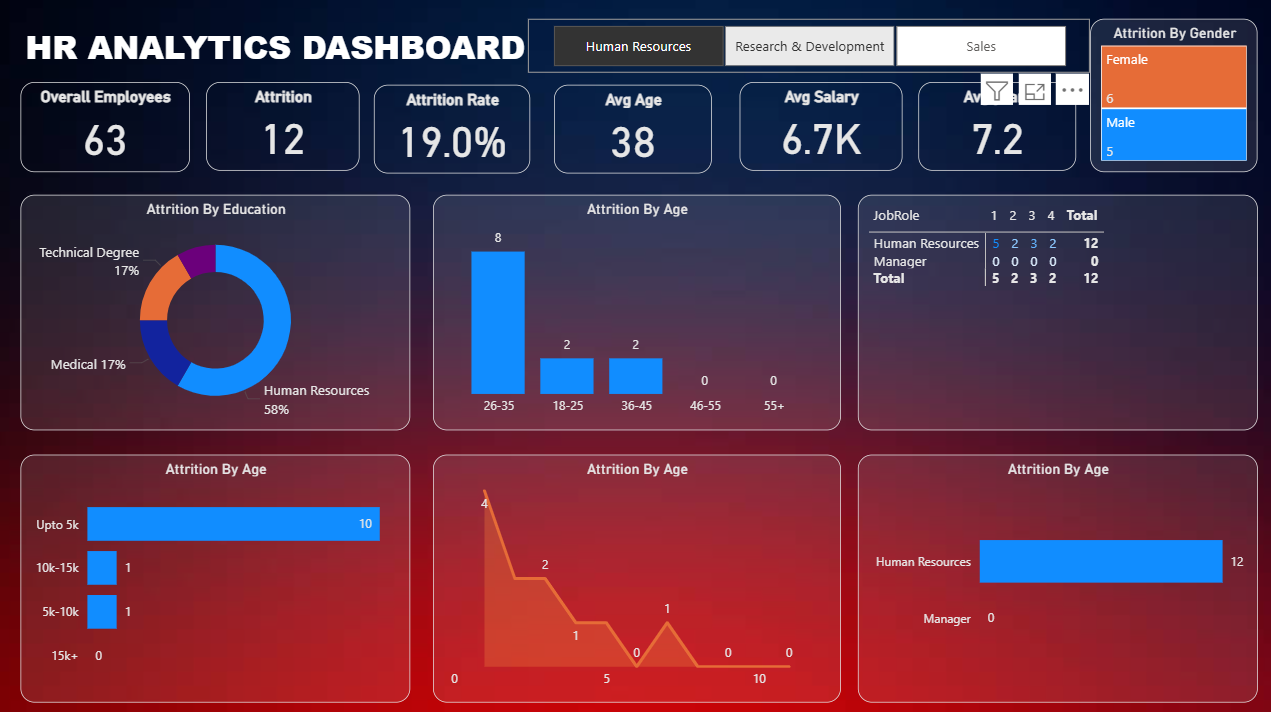

The dashboard page shown, as its layout file describes it:
{"tool":"powerbi","page":{"name":"Page 1","canvas":[1280,720],"ordinal":0},"visuals":[{"type":"card","title":"Overall Employees","fields":{"Values":["Count(HR_Analytics.EmpID)"]},"box":[27.4,88.6,169.2,90.3],"z":0},{"type":"card","title":"Attrition","fields":{"Values":["Sum(HR_Analytics.AttritionCount)"]},"box":[212.7,88.6,153.1,88.6],"z":1000},{"type":"card","title":"Avg Age","fields":{"Values":["Avg(HR_Analytics.Age)"]},"box":[560.9,90.3,158,88.6],"z":2000},{"type":"card","title":"Attrition Rate","fields":{"Values":["HR_Analytics.AttritionRate"]},"box":[380.4,90.3,156.3,88.6],"z":3000},{"type":"card","title":"Avg Salary","fields":{"Values":["Avg(HR_Analytics.MonthlyIncome)"]},"box":[746.2,88.6,162.8,88.6],"z":4000},{"type":"card","title":"Avg years","fields":{"Values":["Avg(HR_Analytics.YearsAtCompany)"]},"box":[925.1,88.6,158,88.6],"z":5000},{"type":"donutChart","title":"Attrition By Education","fields":{"Category":["HR_Analytics.EducationField"],"Y":["Sum(HR_Analytics.AttritionCount)"]},"box":[27.4,201.5,390,235.3],"z":6000},{"type":"columnChart","title":"Attrition By Age","fields":{"Category":["HR_Analytics.AgeGroup"],"Y":["Sum(HR_Analytics.AttritionCount)"]},"box":[440,201.5,407.8,235.3],"z":7000},{"type":"pivotTable","fields":{"Rows":["HR_Analytics.JobRole"],"Columns":["HR_Analytics.JobSatisfaction"],"Values":["Sum(HR_Analytics.AttritionCount)"]},"box":[865.5,201.5,399.7,235.3],"z":8000},{"type":"barChart","title":"Attrition By Age","fields":{"Category":["HR_Analytics.SalarySlab"],"Y":["Sum(HR_Analytics.AttritionCount)"]},"box":[27.4,461,390,248.2],"z":9000},{"type":"barChart","title":"Attrition By Age","fields":{"Category":["HR_Analytics.JobRole"],"Y":["Sum(HR_Analytics.AttritionCount)"]},"box":[865.5,461,399.7,248.2],"z":10000},{"type":"areaChart","title":"Attrition By Age","fields":{"Category":["HR_Analytics.YearsAtCompany"],"Y":["Sum(HR_Analytics.AttritionCount)"]},"box":[440,461,407.8,248.2],"z":11000},{"type":"treemap","title":"Attrition By Gender","fields":{"Group":["HR_Analytics.Gender"],"Values":["Sum(HR_Analytics.AttritionCount)"]},"box":[1097.6,24.2,167.6,153.1],"z":12000},{"type":"slicer","fields":{"Values":["HR_Analytics.Department"]},"box":[535.1,24.3,562.2,54.1],"z":13000},{"type":"textbox","box":[27.4,24.2,520.6,64.5],"z":14000}]}

Visuals, with their boxes in screenshot pixels (x1, y1, x2, y2), scaled from the page's 1280x720 canvas onto the 1271x712 screenshot:
"Overall Employees" card: {"left": 27, "top": 88, "right": 195, "bottom": 177}
"Attrition" card: {"left": 211, "top": 88, "right": 363, "bottom": 175}
"Avg Age" card: {"left": 557, "top": 89, "right": 714, "bottom": 177}
"Attrition Rate" card: {"left": 378, "top": 89, "right": 533, "bottom": 177}
"Avg Salary" card: {"left": 741, "top": 88, "right": 903, "bottom": 175}
"Avg years" card: {"left": 919, "top": 88, "right": 1075, "bottom": 175}
"Attrition By Education" donutChart: {"left": 27, "top": 199, "right": 414, "bottom": 432}
"Attrition By Age" columnChart: {"left": 437, "top": 199, "right": 842, "bottom": 432}
pivotTable - HR_Analytics.JobRole x HR_Analytics.JobSatisfaction: {"left": 859, "top": 199, "right": 1256, "bottom": 432}
"Attrition By Age" barChart: {"left": 27, "top": 456, "right": 414, "bottom": 701}
"Attrition By Age" barChart: {"left": 859, "top": 456, "right": 1256, "bottom": 701}
"Attrition By Age" areaChart: {"left": 437, "top": 456, "right": 842, "bottom": 701}
"Attrition By Gender" treemap: {"left": 1090, "top": 24, "right": 1256, "bottom": 175}
slicer - HR_Analytics.Department: {"left": 531, "top": 24, "right": 1090, "bottom": 78}
textbox: {"left": 27, "top": 24, "right": 544, "bottom": 88}
